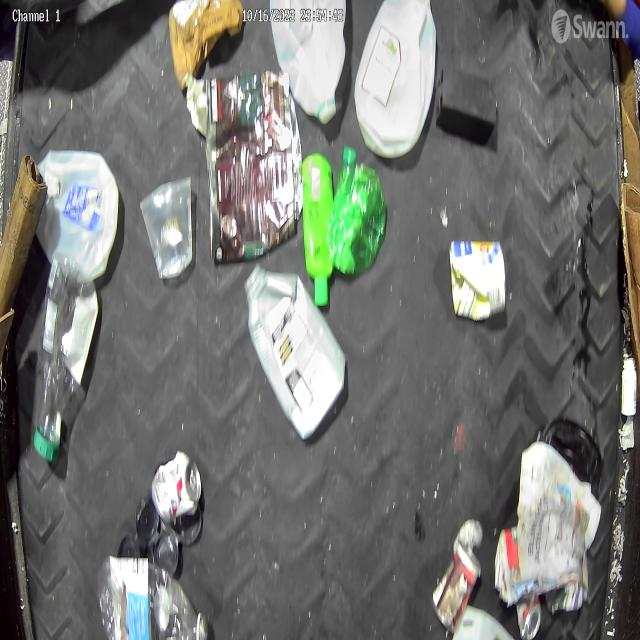can: (449, 238, 508, 324), (432, 538, 482, 632), (150, 449, 202, 520), (515, 593, 543, 640)
milk_jug: (355, 0, 435, 158), (34, 150, 116, 282), (270, 12, 344, 126), (442, 605, 526, 639)
non_white_jug: (242, 264, 348, 438)
plastic_bottle: (34, 253, 100, 463), (98, 555, 209, 640)
